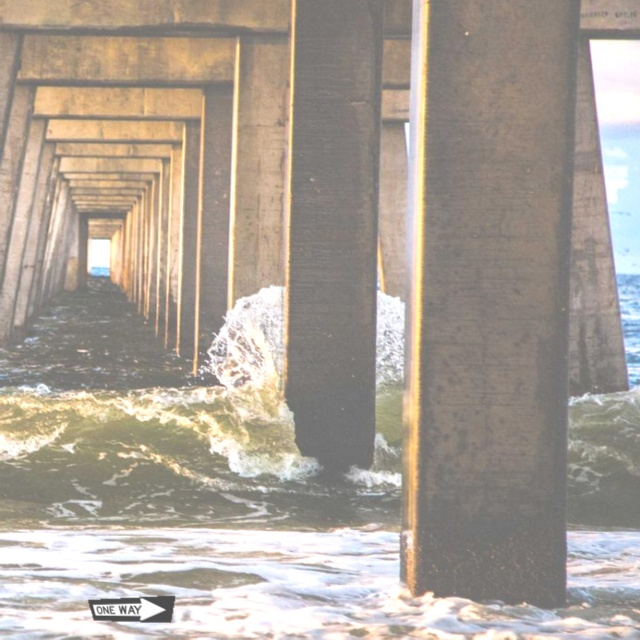ONE_WAY_ right: (87, 595, 175, 623)
